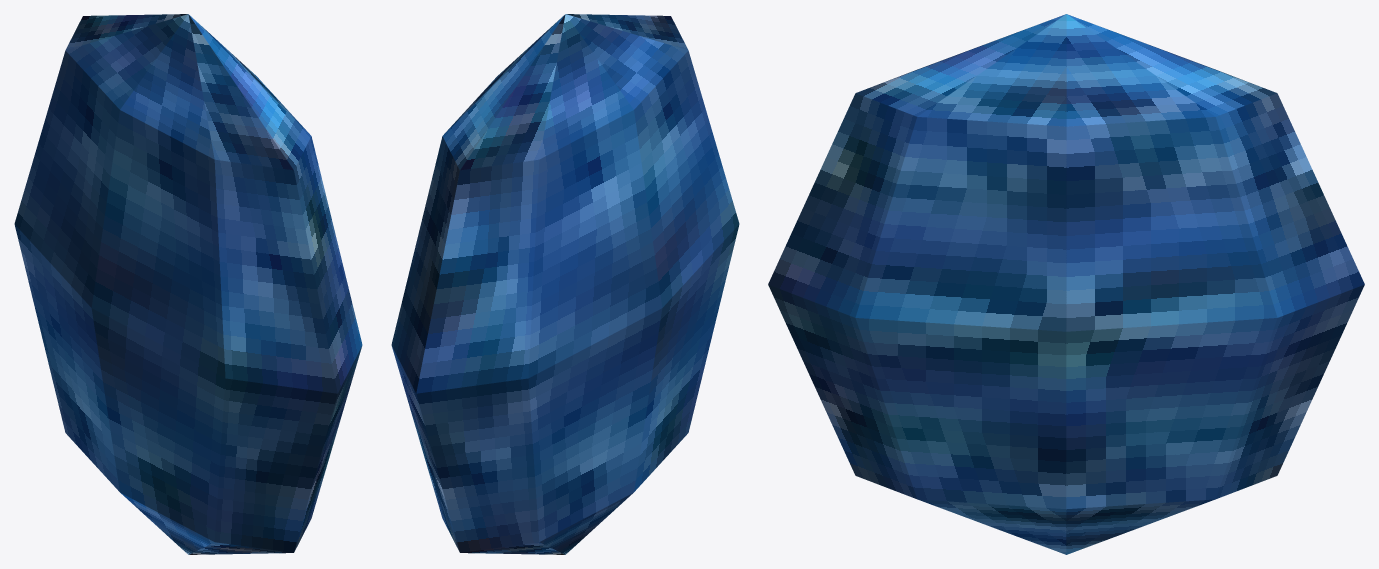
Rendered from sapphire.fbx.
3 renders of one model, left to right at view 1: azimuth 30°, elevation 25°; view 2: azimuth 150°, elevation 25°; view 3: azimuth 270°, elevation 25°, orthographic.
Visible parts, largest first — view 1: Sphere; view 2: Sphere; view 3: Sphere.
Boxes of the visible parts, x1,y1,x2,y2 form: Sphere: [14, 14, 362, 554]; Sphere: [391, 14, 739, 554]; Sphere: [768, 14, 1364, 554].
Size of the model in its own units: 74.97 by 200 by 200.
